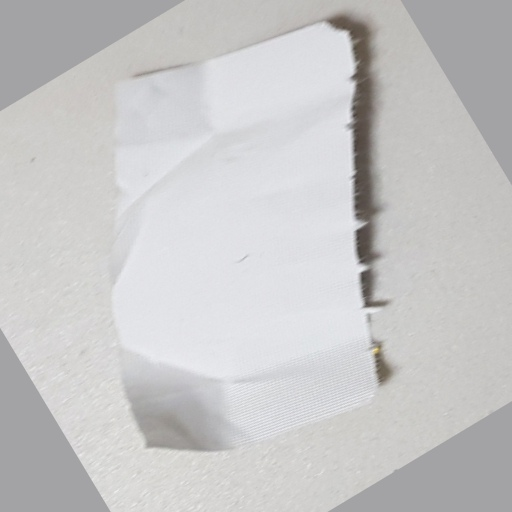Paper_3: (110, 18, 408, 455)
